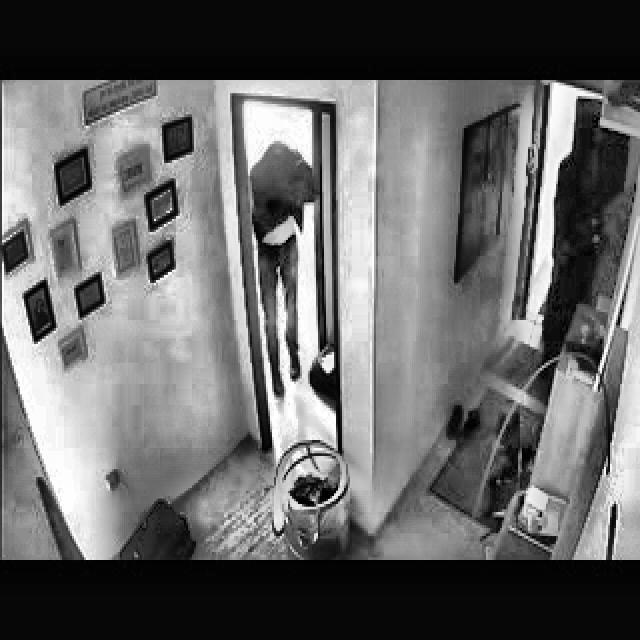burglary: (240, 95, 338, 407)
